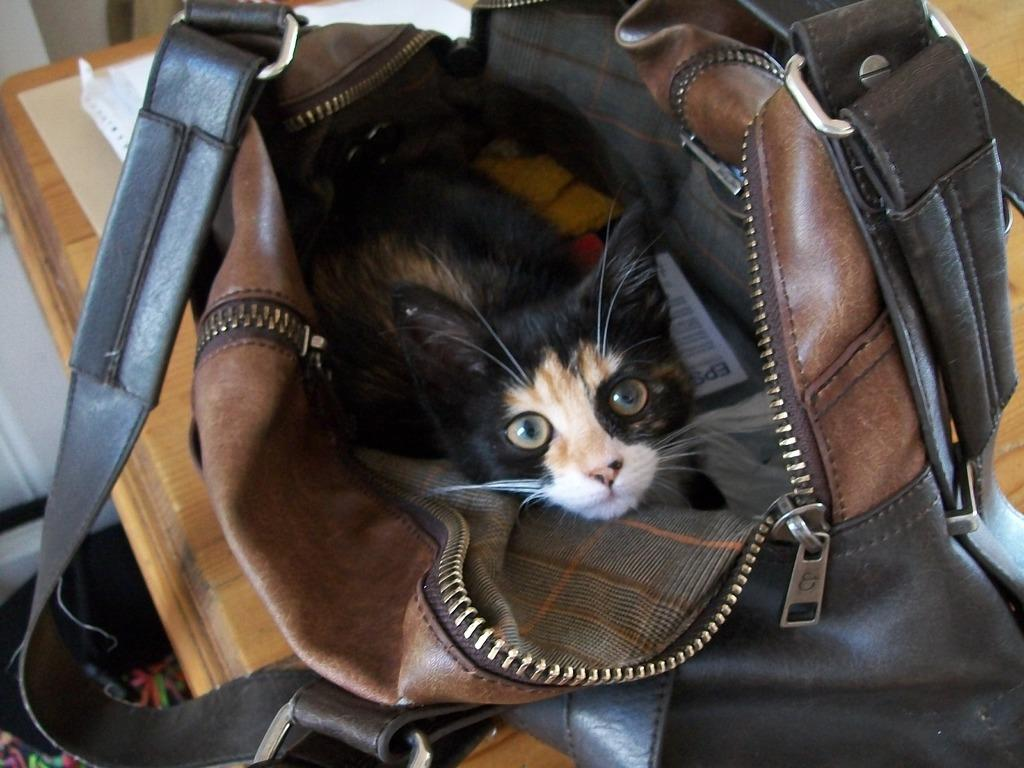Luggage-and-bags: (10, 0, 1023, 767)
